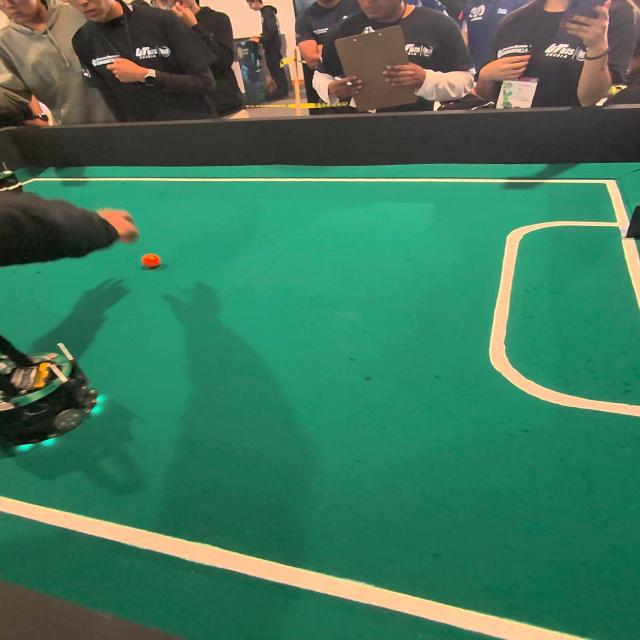Robot: (2, 322, 114, 466), (0, 153, 36, 214)
pelota: (140, 245, 160, 272)
